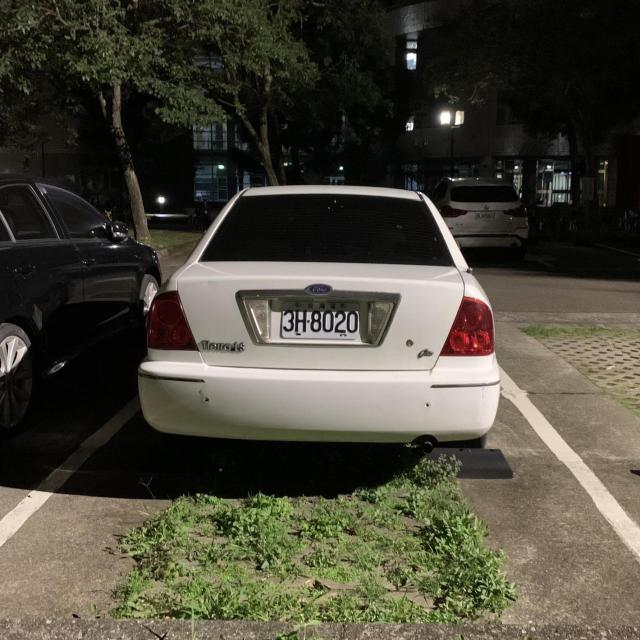W: (276, 295, 366, 345)
